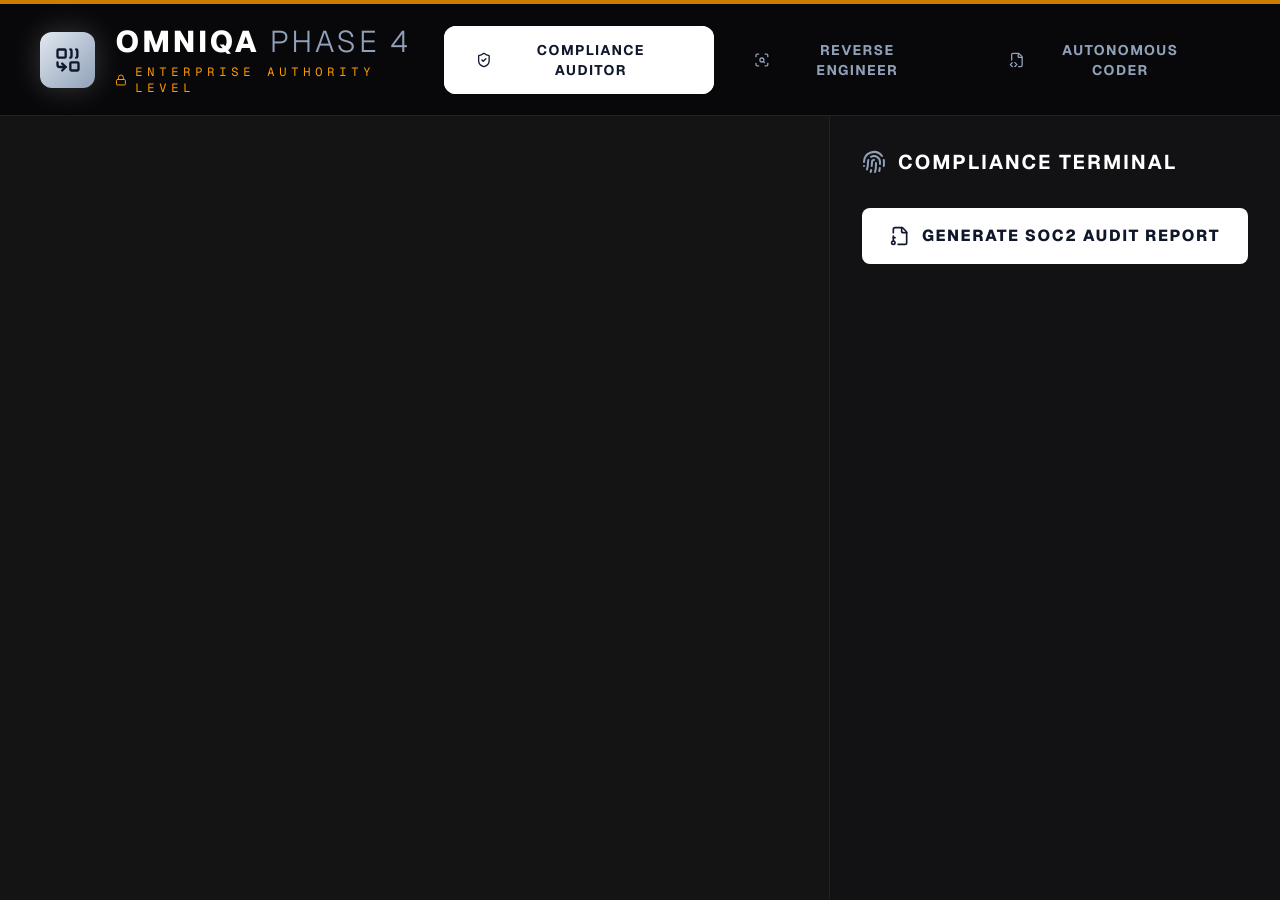
Test case: OmniQA God Mode Micro-App › Module 11: Reverse Engineer › should run reverse engineering scan and reconstruct architecture
The width and height of the screenshot is (1280, 900).
Click the button "Reverse Engineer": (845, 60) [722,26,969,94]
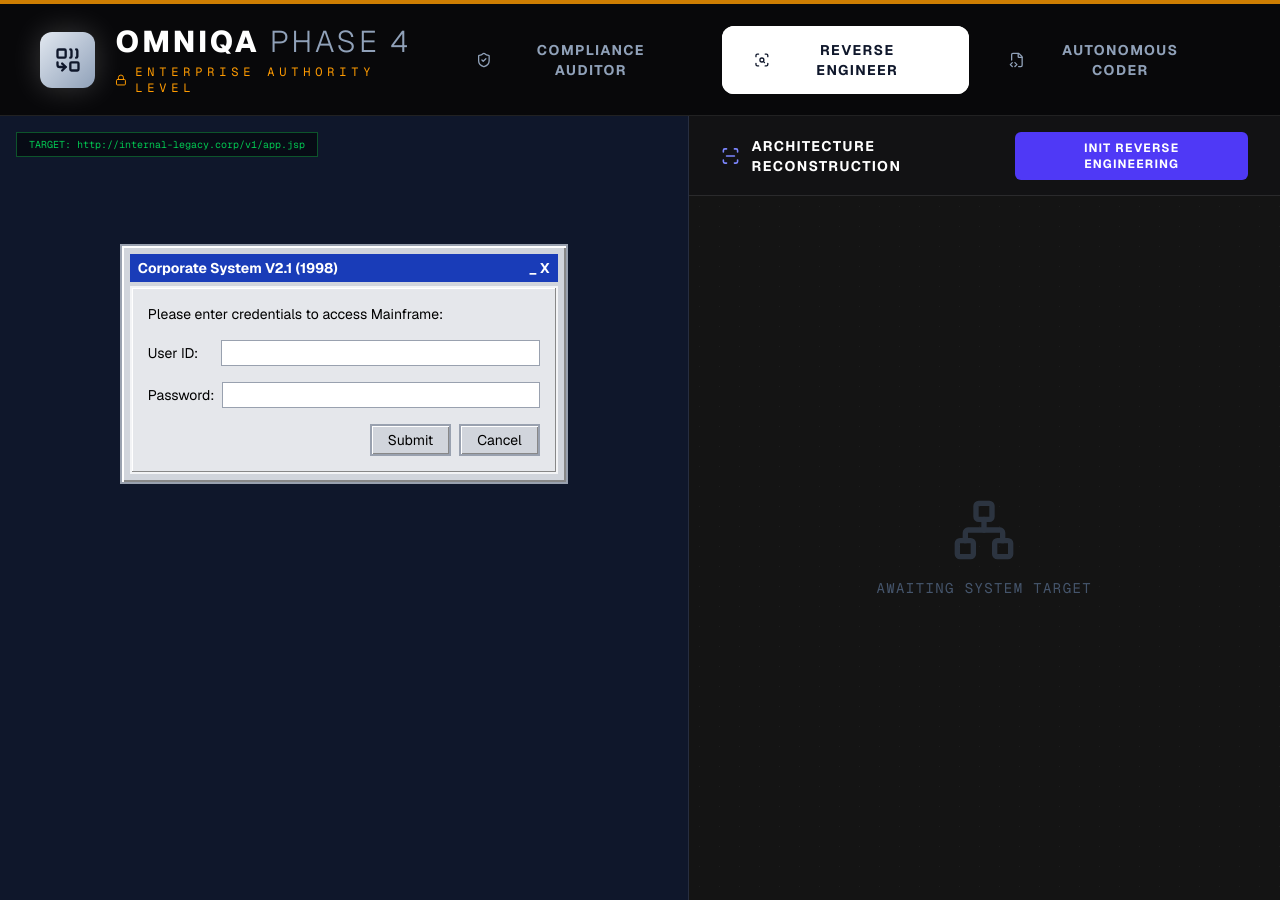
Expected: the text "Awaiting System Target" is shown, [876,578,1092,598]
Expected: the text "Corporate System V2.1 (1998)" is shown, [138,258,338,278]
Click the button "Init Reverse Engineering": (1132, 156) [1015,132,1248,180]
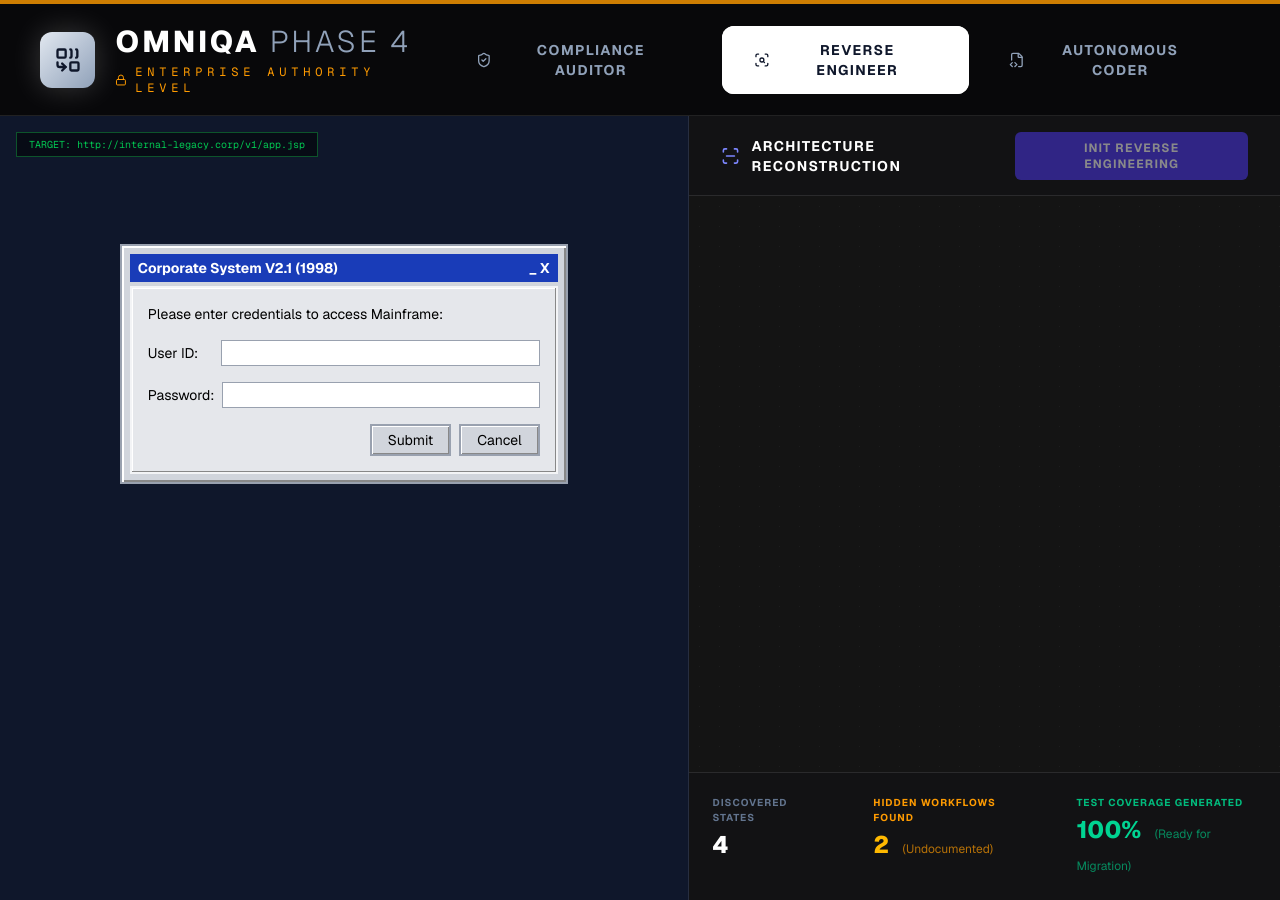
Expected: the text "Discovered States" is shown, [712,796,788,824]
Expected: the text "Hidden Workflows Found" is shown, [873,796,996,824]
Expected: the text "Test Coverage Generated" is shown, [1076,795,1256,810]
